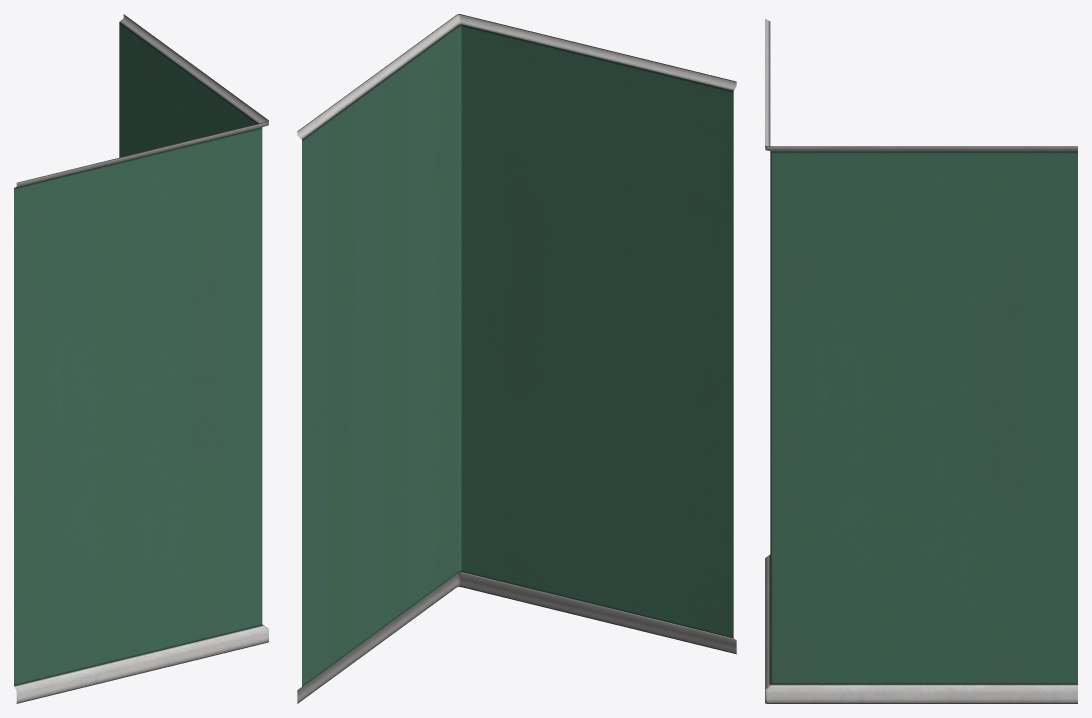
The model's file is livingroom_convex.dae.
The picture shows the model from 3 angles, left to right: view 1: azimuth 30°, elevation 25°; view 2: azimuth 150°, elevation 25°; view 3: azimuth 270°, elevation 25°; orthographic projection. The views are drawn at different scales.
Parts seen in each view (by area): view 1: waitingroom_convex; view 2: waitingroom_convex; view 3: waitingroom_convex.
Boxes of the visible parts, bbox=[...] form: waitingroom_convex: bbox=[14, 14, 268, 703]; waitingroom_convex: bbox=[297, 14, 736, 703]; waitingroom_convex: bbox=[765, 18, 1077, 703].
Size of the model in its own units: 203 by 400 by 203.
